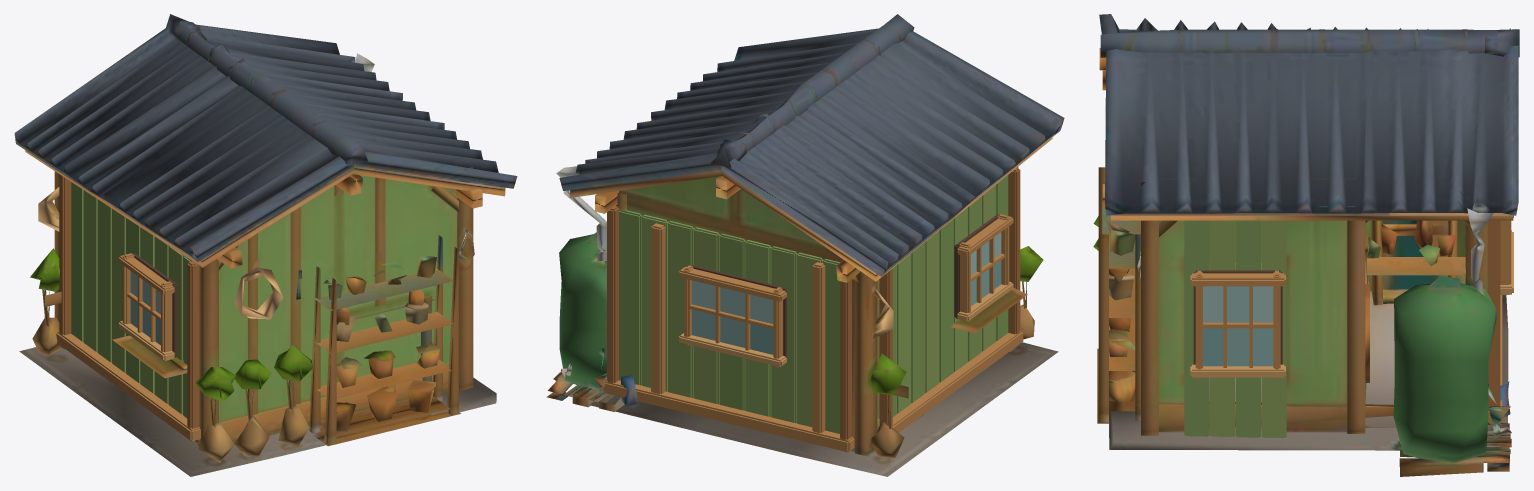
The picture shows the model from 3 angles, left to right: view 1: azimuth 30°, elevation 25°; view 2: azimuth 150°, elevation 25°; view 3: azimuth 270°, elevation 25°; orthographic projection. The views are drawn at different scales.
Parts seen in each view (by area): view 1: tripo_node_e3964af3-101d-4d6e-8941-bf9a872aa80a, 외형 세부; view 2: tripo_node_e3964af3-101d-4d6e-8941-bf9a872aa80a, 외형 세부; view 3: tripo_node_e3964af3-101d-4d6e-8941-bf9a872aa80a, 외형 세부.
Boxes of the visible parts, box(x1,y1,x2,y2) form: tripo_node_e3964af3-101d-4d6e-8941-bf9a872aa80a: box(14, 14, 517, 476); 외형 세부: box(56, 174, 200, 441); tripo_node_e3964af3-101d-4d6e-8941-bf9a872aa80a: box(546, 14, 1064, 476); 외형 세부: box(603, 168, 1023, 452); tripo_node_e3964af3-101d-4d6e-8941-bf9a872aa80a: box(1093, 14, 1519, 476); 외형 세부: box(1184, 215, 1513, 437).
Size of the model in its own units: 4.7 by 3.78 by 4.29.
Materials: 2 (1 with a texture image).
